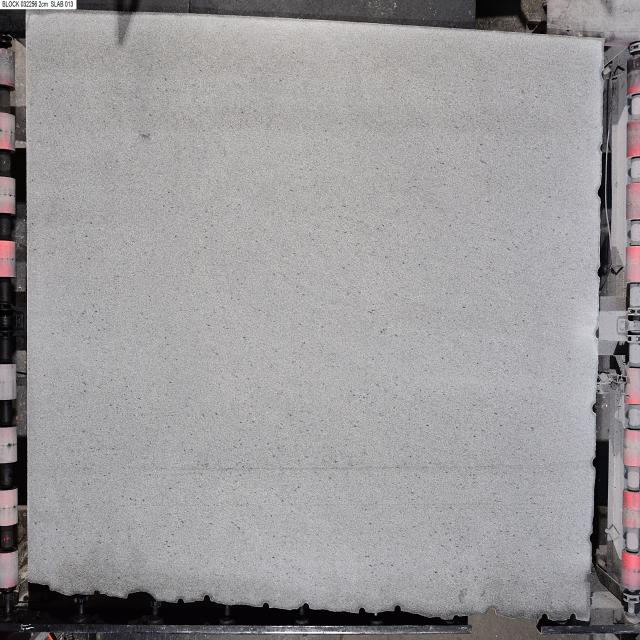chapa: (28, 13, 602, 620)
veio: (299, 600, 312, 616), (567, 611, 578, 626), (539, 609, 549, 625), (591, 398, 599, 418), (201, 592, 212, 606), (392, 603, 402, 617), (261, 599, 270, 613), (356, 604, 366, 616)
